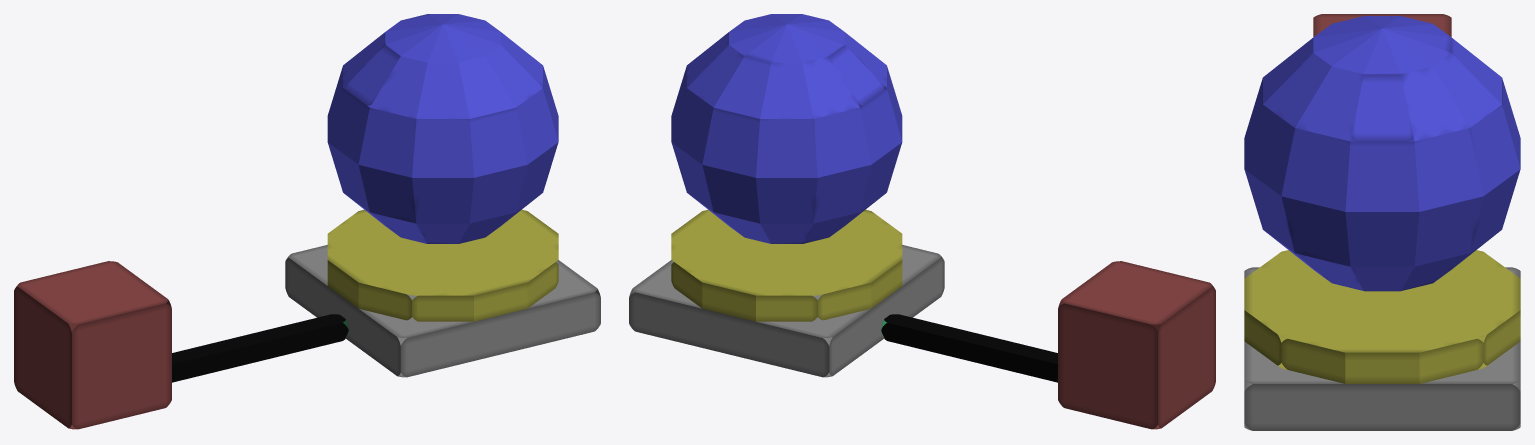
File: teleporter_active.obj
The picture shows the model from 3 angles, left to right: view 1: azimuth 30°, elevation 25°; view 2: azimuth 150°, elevation 25°; view 3: azimuth 270°, elevation 25°; orthographic projection. The views are drawn at different scales.
Parts seen in each view (by area): view 1: mesh, sphere, cylinder; view 2: mesh, sphere, cylinder; view 3: sphere, cylinder, mesh.
Part boxes in pixels (x1,y1,x2,y2): mesh: (14, 245, 600, 429); sphere: (327, 14, 558, 243); cylinder: (327, 209, 558, 321); mesh: (629, 245, 1215, 429); sphere: (671, 14, 902, 243); cylinder: (671, 209, 902, 321); sphere: (1244, 16, 1520, 291); cylinder: (1244, 250, 1520, 383); mesh: (1244, 14, 1520, 430).
Bounding box in the file's own units: 2.5 × 1.38 × 1.
1 material, 1 textured.
